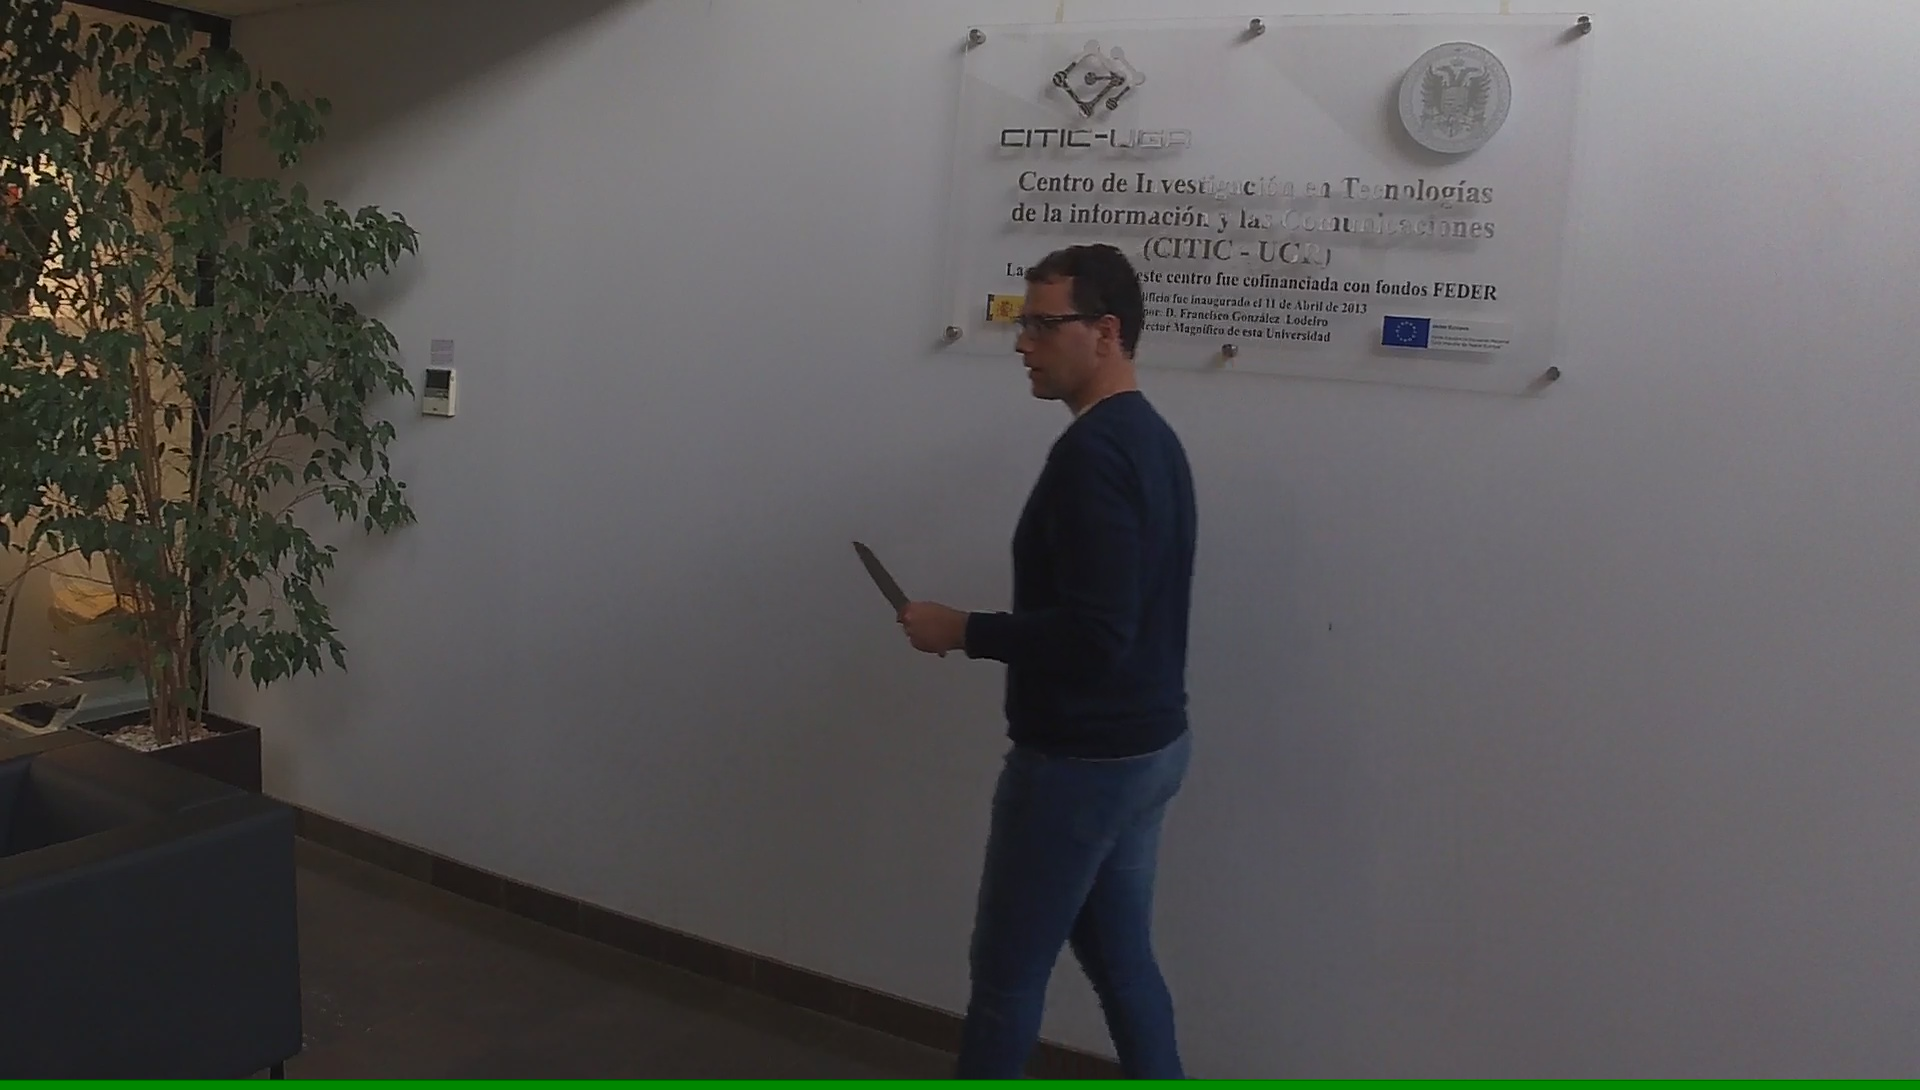knife: (845, 531, 951, 663)
